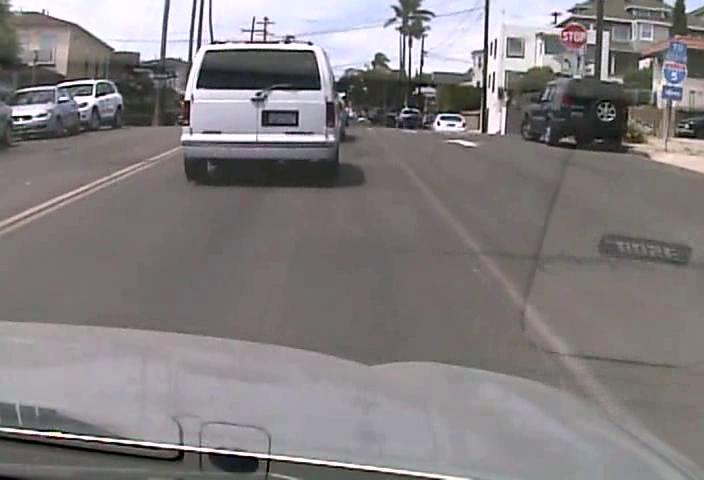stop: (559, 22, 588, 50)
